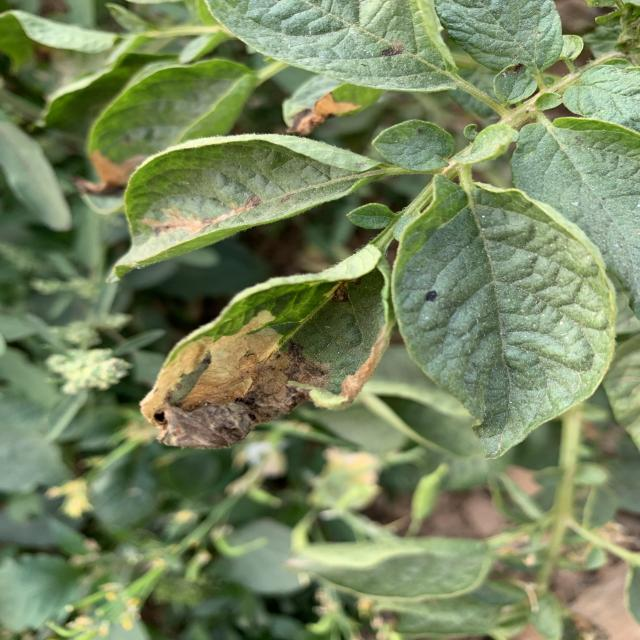lateblight: (140, 310, 330, 449), (142, 195, 260, 236)
